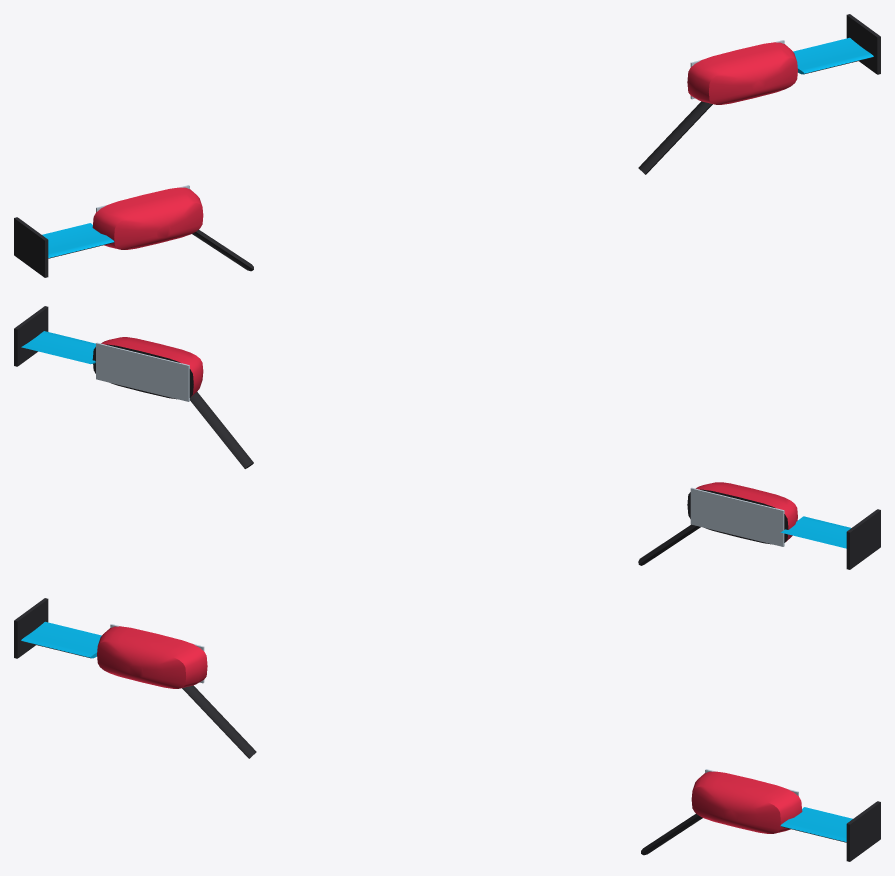
Rendered from winglet.glb.
3 renders of one model, top to bottom at view 1: azimuth 30°, elevation 25°; view 2: azimuth 150°, elevation 25°; view 3: azimuth 330°, elevation 25°, orthographic.
Parts seen in each view (by area): view 1: Mirrors_winglet; view 2: Mirrors_winglet, MirrorGlassR.005, MirrorGlassL.005; view 3: Mirrors_winglet.
Part boxes in pixels (left/top/right/bottom): Mirrors_winglet: left=14, top=14, right=880, bottom=277; Mirrors_winglet: left=14, top=306, right=880, bottom=569; MirrorGlassR.005: left=690, top=487, right=784, bottom=546; MirrorGlassL.005: left=96, top=342, right=189, bottom=401; Mirrors_winglet: left=14, top=598, right=880, bottom=861.
Bounding box in the file's own units: 1.41 × 0.1542 × 0.09.
